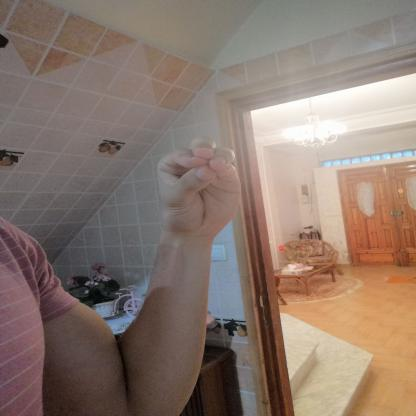HA: (135, 127, 260, 255)
